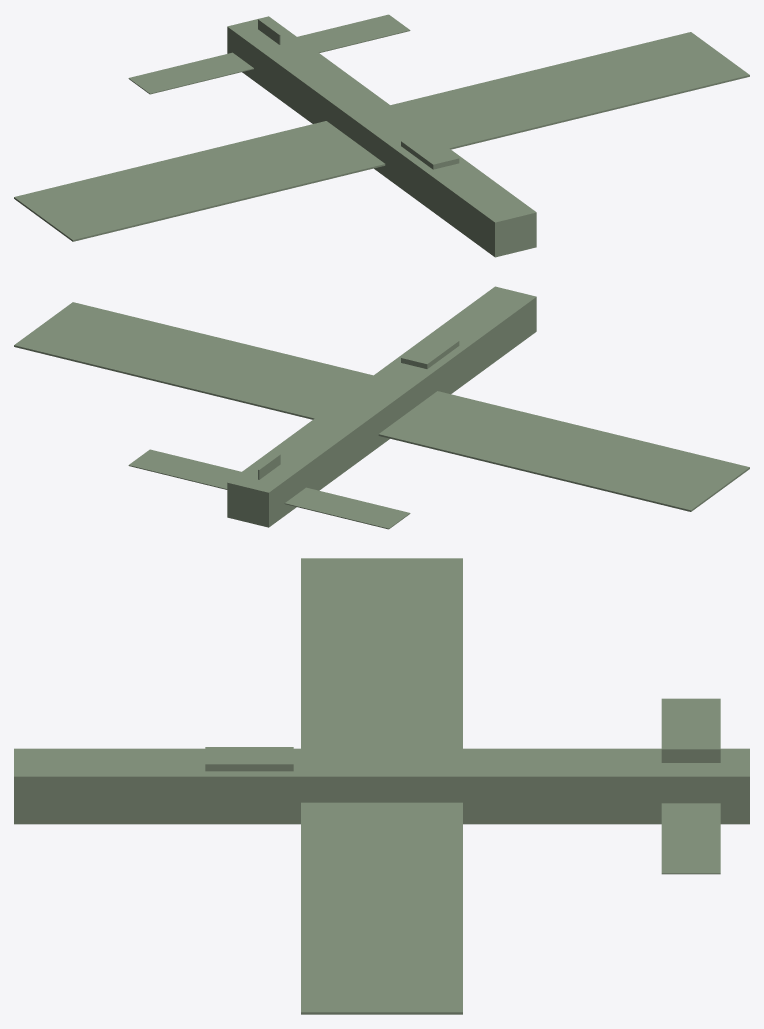
The picture shows the model from 3 angles, top to bottom: view 1: azimuth 30°, elevation 25°; view 2: azimuth 150°, elevation 25°; view 3: azimuth 270°, elevation 25°; orthographic projection. The views are drawn at different scales.
Visible parts, largest first — view 1: Fuselage, Wing_L, Wing_R, Elevator_L, Elevator_R, Cockpit; view 2: Fuselage, Wing_L, Wing_R, Elevator_L, Elevator_R, Cockpit; view 3: Fuselage, Wing_R, Wing_L, Elevator_R, Elevator_L, Cockpit, Rudder.
Part boxes in pixels (x1,y1,x2,y2): Fuselage: (227, 16, 536, 257); Wing_L: (14, 121, 385, 241); Wing_R: (390, 32, 749, 149); Elevator_L: (128, 52, 253, 94); Elevator_R: (297, 14, 410, 52); Cockpit: (401, 135, 459, 169); Fuselage: (227, 286, 536, 527); Wing_L: (378, 391, 749, 511); Wing_R: (14, 302, 373, 419); Elevator_L: (284, 487, 410, 529); Elevator_R: (128, 449, 241, 489); Cockpit: (401, 334, 459, 368); Fuselage: (14, 748, 749, 824); Wing_R: (301, 802, 462, 1014); Wing_L: (301, 558, 462, 748); Elevator_R: (661, 803, 720, 874); Elevator_L: (661, 698, 720, 748); Cockpit: (205, 747, 293, 771); Rudder: (661, 748, 720, 762).
Bounding box in the file's own units: 32.97 × 2.09 × 22.6.
